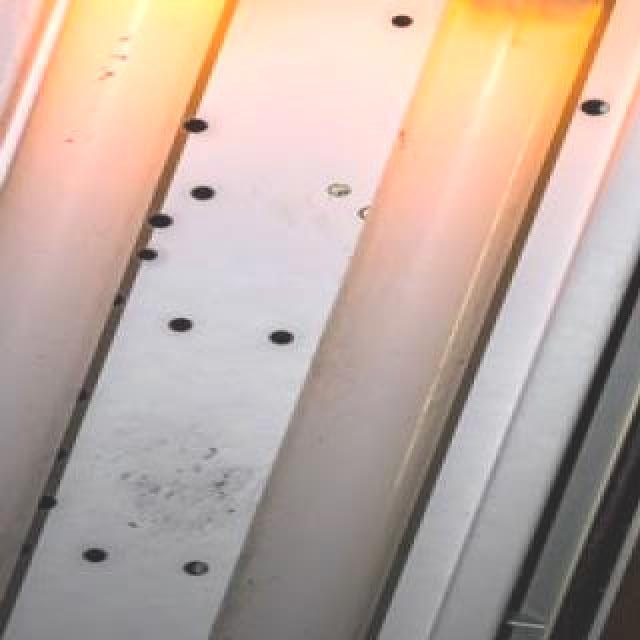fluorescent tube: (168, 0, 640, 640), (0, 0, 346, 640)
